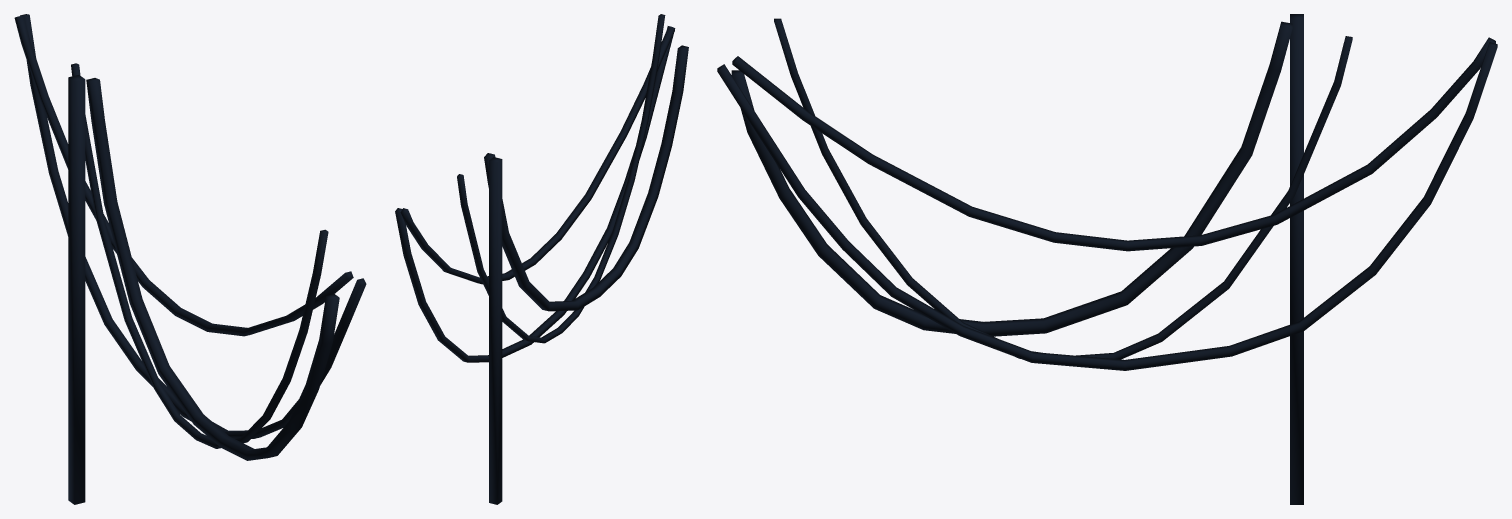
The model's file is SM_BWires_02.fbx.
3 views of the same model, side by side, from view 1: azimuth 30°, elevation 25°; view 2: azimuth 150°, elevation 25°; view 3: azimuth 270°, elevation 25° (orthographic). The views are drawn at different scales.
Parts seen in each view (by area): view 1: SM_BWires_02; view 2: SM_BWires_02; view 3: SM_BWires_02.
Boxes of the visible parts, x1,y1,x2,y2 form: SM_BWires_02: (14, 14, 366, 504); SM_BWires_02: (395, 14, 688, 504); SM_BWires_02: (717, 14, 1497, 504).
Bounding box in the file's own units: 9.74 × 94.88 × 136.
